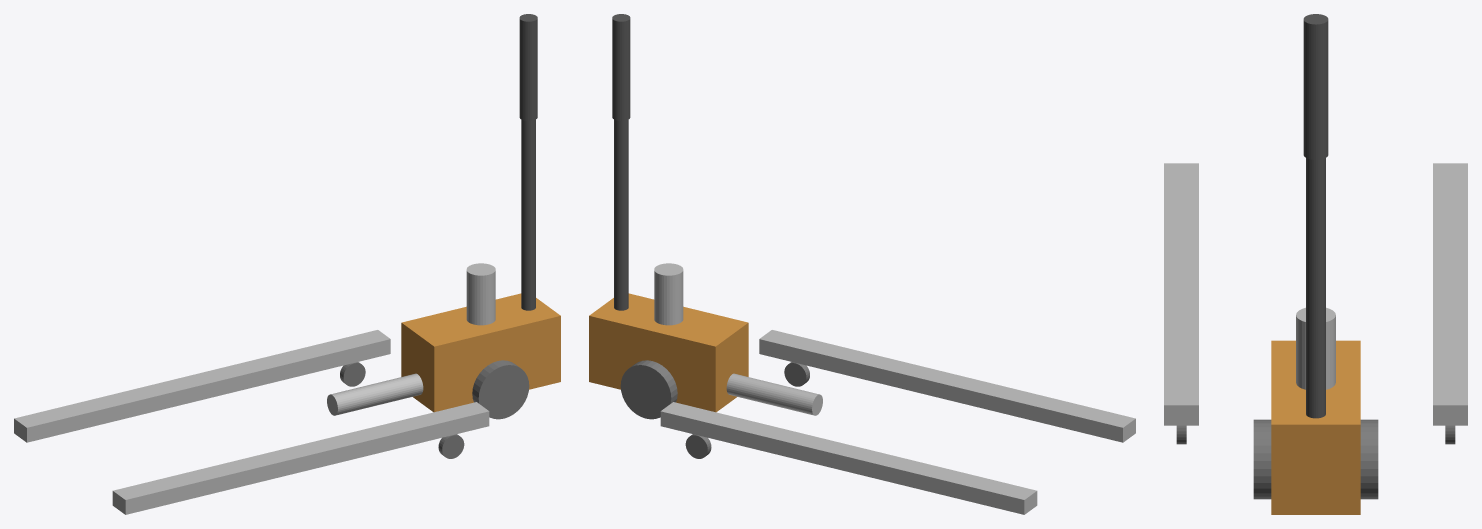
File: forklift-pallet-jack-manual.glb
3 views of the same model, side by side, from view 1: azimuth 30°, elevation 25°; view 2: azimuth 150°, elevation 25°; view 3: azimuth 270°, elevation 25° (orthographic). The views are drawn at different scales.
Parts seen in each view (by area): view 1: pump_body, fork_0, fork_1, handle_stem, rear_wheel_0, connector, handle_head, hydraulic_cylinder; view 2: pump_body, fork_1, fork_0, handle_stem, rear_wheel_1, connector, handle_head, hydraulic_cylinder; view 3: pump_body, fork_0, fork_1, handle_stem, handle_head, hydraulic_cylinder, rear_wheel_0, rear_wheel_1.
Boxes of the visible parts, bbox=[...] form: pump_body: bbox=[401, 293, 560, 412]; fork_0: bbox=[112, 402, 489, 514]; fork_1: bbox=[14, 330, 390, 442]; handle_stem: bbox=[521, 119, 535, 310]; rear_wheel_0: bbox=[472, 360, 529, 419]; connector: bbox=[327, 373, 423, 415]; handle_head: bbox=[519, 14, 537, 120]; hydraulic_cylinder: bbox=[466, 263, 495, 325]; pump_body: bbox=[589, 293, 748, 412]; fork_1: bbox=[660, 402, 1037, 514]; fork_0: bbox=[759, 330, 1135, 442]; handle_stem: bbox=[614, 119, 628, 310]; rear_wheel_1: bbox=[620, 360, 677, 419]; connector: bbox=[726, 373, 822, 415]; handle_head: bbox=[612, 14, 630, 120]; hydraulic_cylinder: bbox=[654, 263, 683, 325]; pump_body: bbox=[1271, 340, 1360, 514]; fork_0: bbox=[1164, 163, 1198, 425]; fork_1: bbox=[1433, 163, 1467, 425]; handle_stem: bbox=[1306, 158, 1325, 418]; handle_head: bbox=[1303, 14, 1328, 159]; hydraulic_cylinder: bbox=[1296, 307, 1335, 389]; rear_wheel_0: bbox=[1253, 419, 1271, 499]; rear_wheel_1: bbox=[1360, 419, 1378, 499].
Bounding box in the file's own units: 1500 × 1125 × 610.
